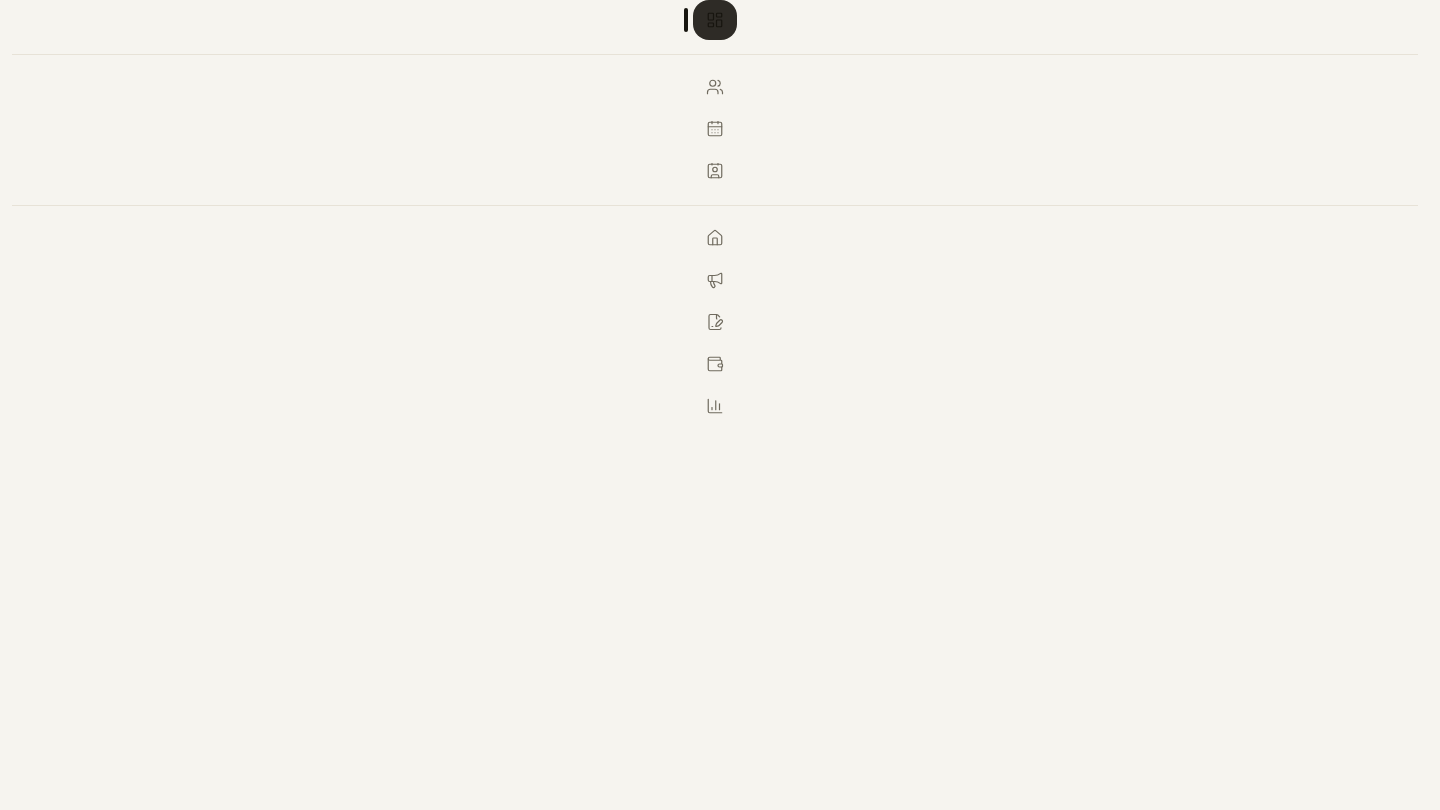
Test: painel flutuante do Financeiro (recolhida) › abre pelo teclado e escolher um item fecha o painel
Step 1. Press Tab
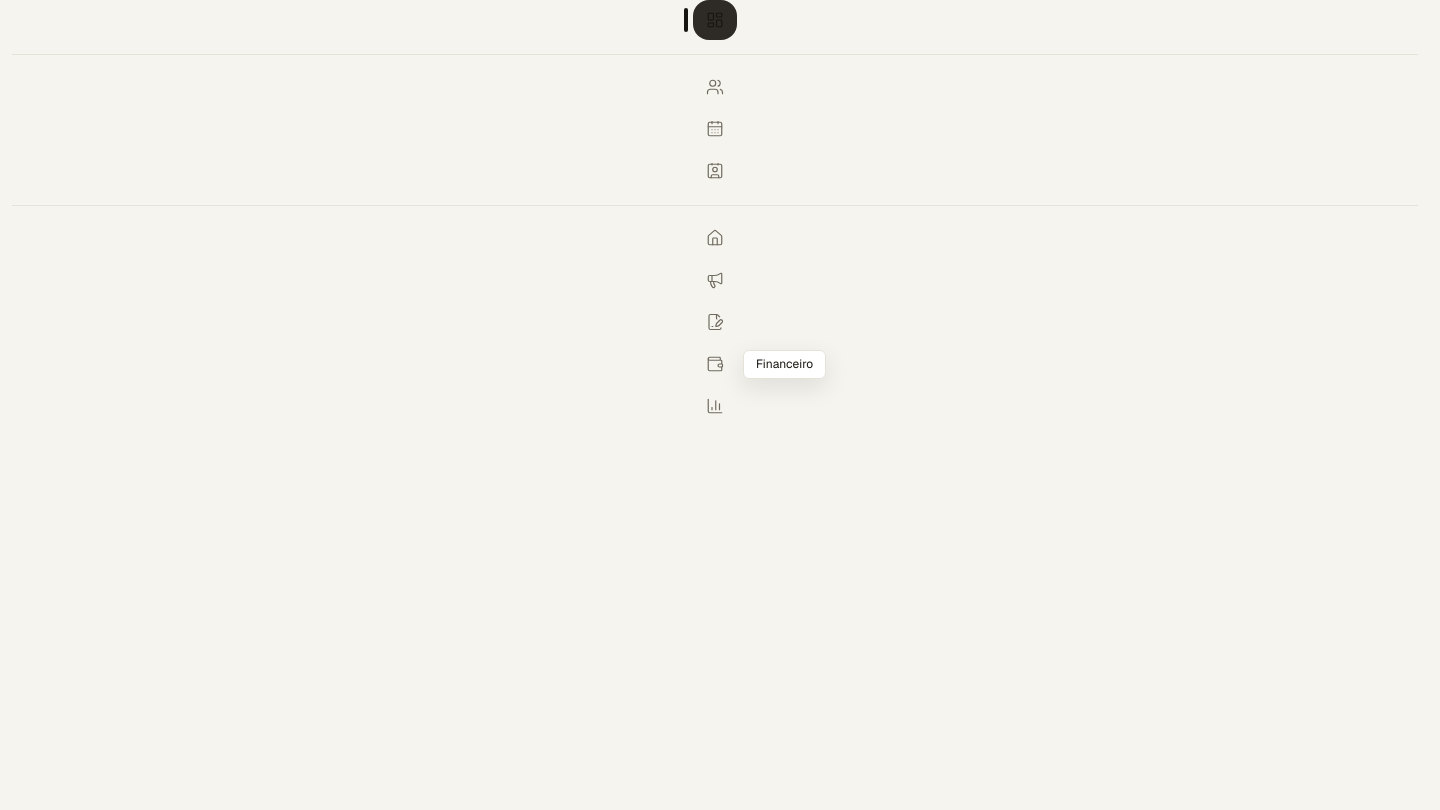
Step 2. Press Enter
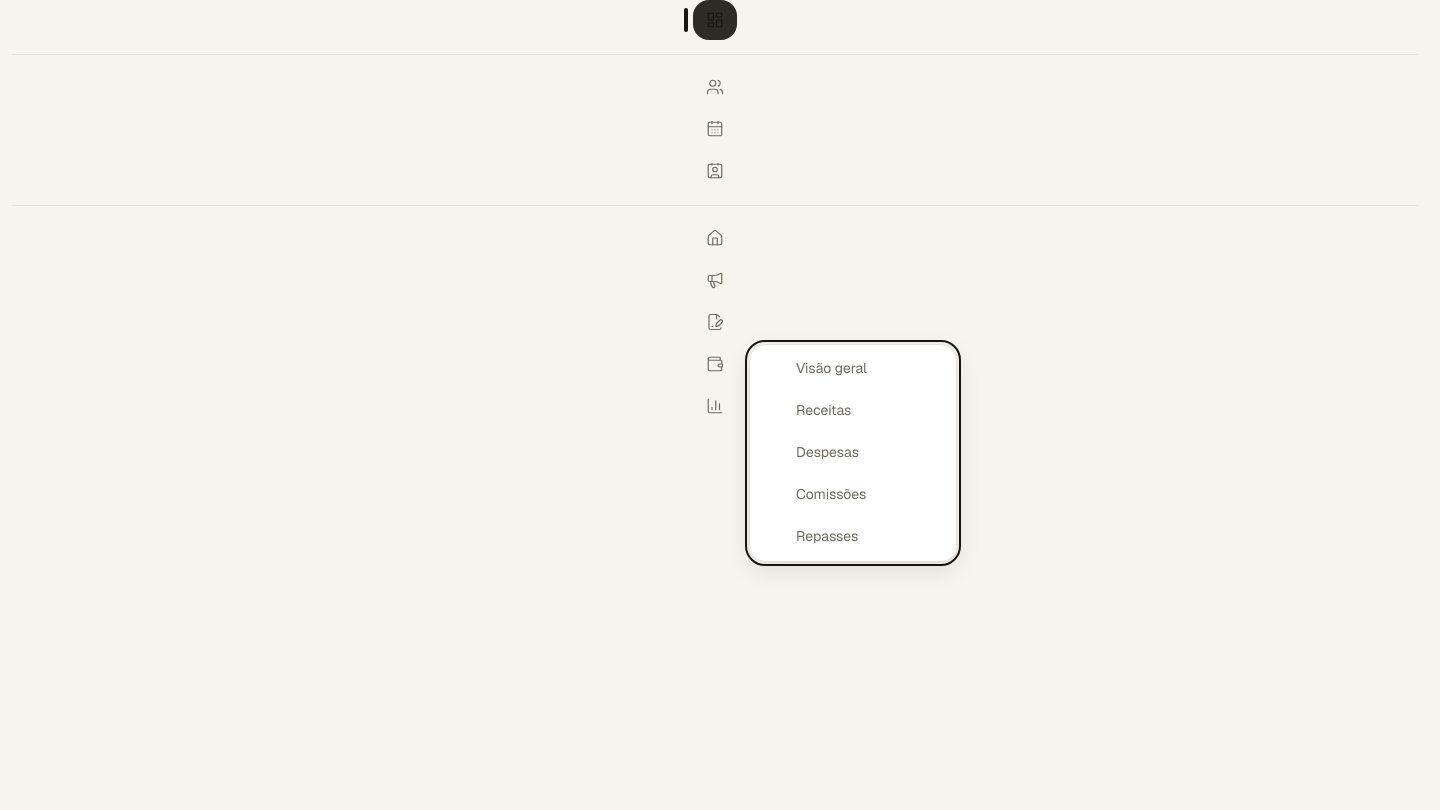
Step 3. Click the link "Repasses" → click(827, 536), box x1=796 y1=527 x2=858 y2=545
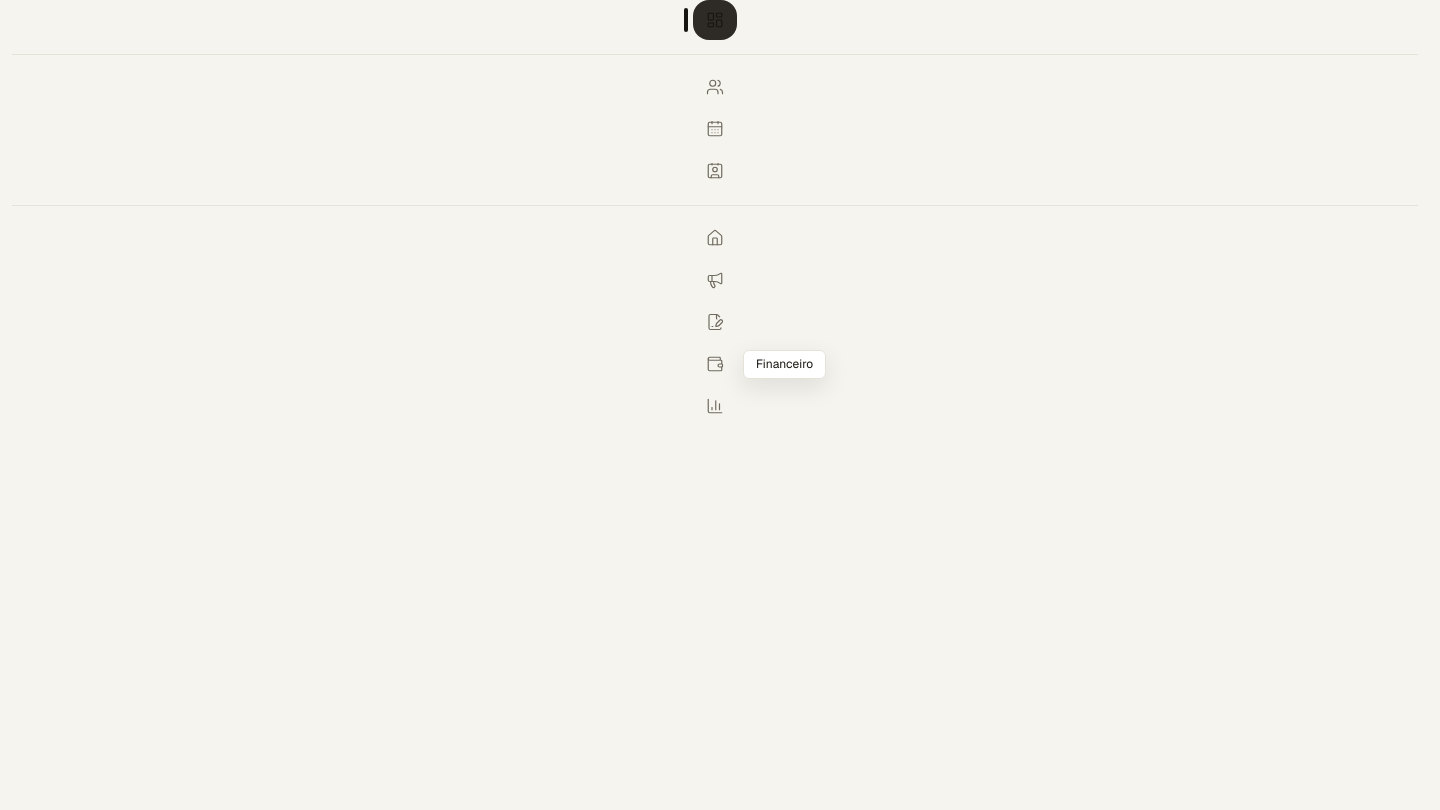
Expected: the dialog is gone
